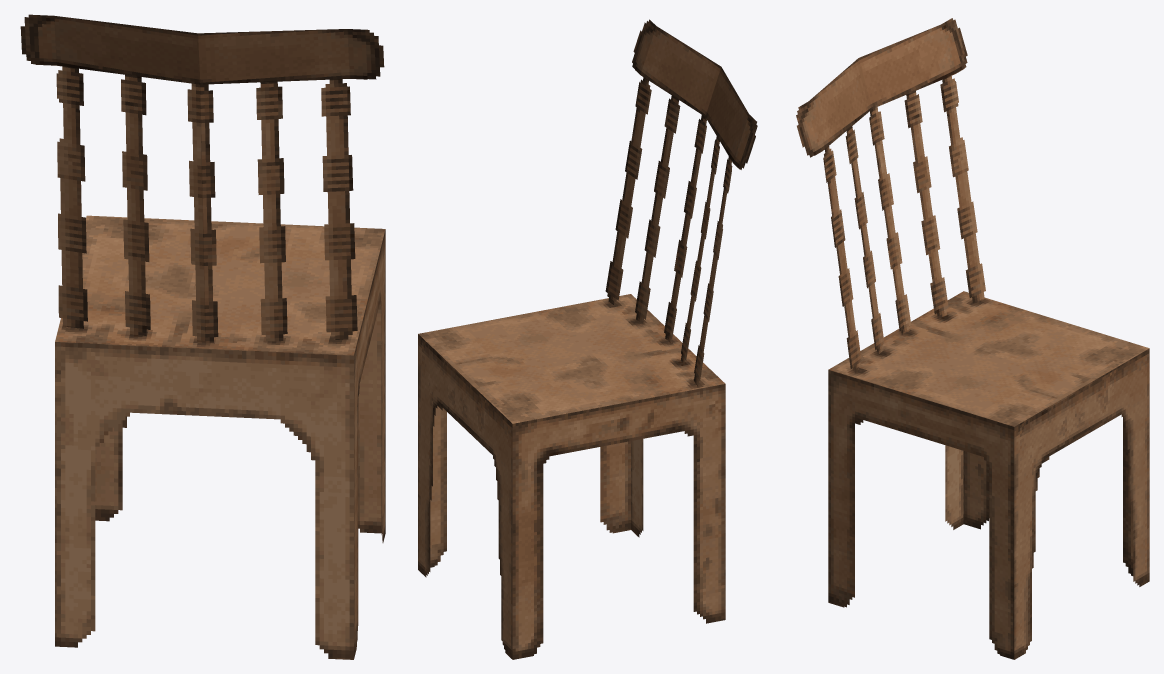
The model's file is chair.glb.
3 views of the same model, side by side, from view 1: azimuth 30°, elevation 25°; view 2: azimuth 150°, elevation 25°; view 3: azimuth 270°, elevation 25° (orthographic). The views are drawn at different scales.
Parts seen in each view (by area): view 1: chair; view 2: chair; view 3: chair.
Boxes of the visible parts, <box> form: chair: <box>20,14,385,659</box>; chair: <box>418,19,757,659</box>; chair: <box>796,18,1149,659</box>.
Bounding box in the file's own units: 0.7034 × 1.06 × 0.7025.
Materials: 1 (1 with a texture image).
